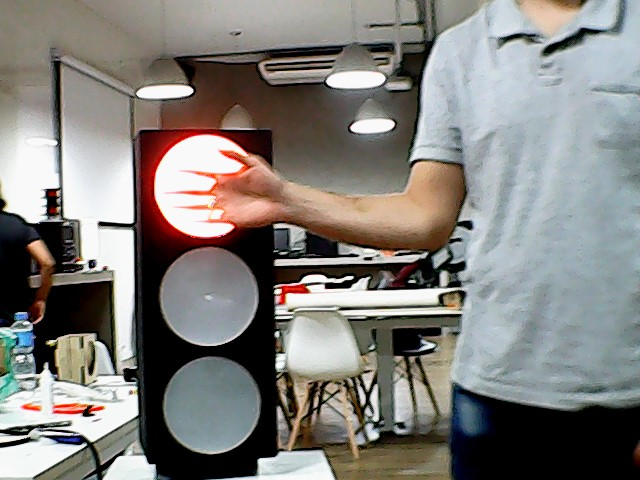vermelho: (125, 118, 281, 466)
